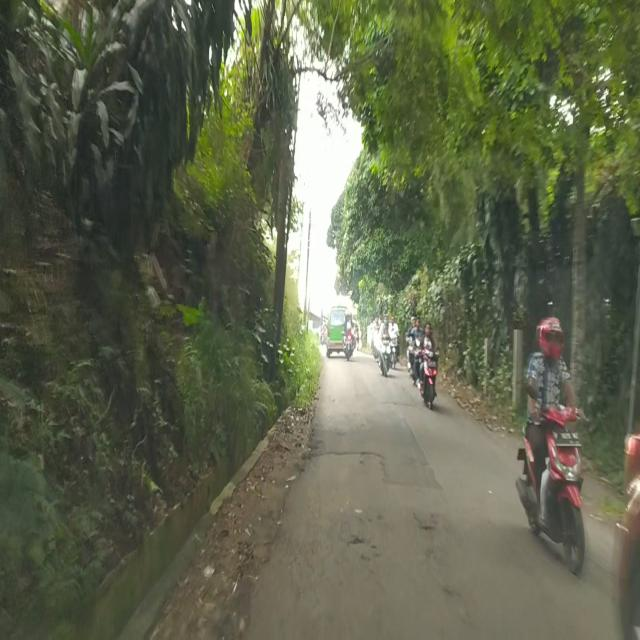Drain Hole: (279, 509, 386, 598)
